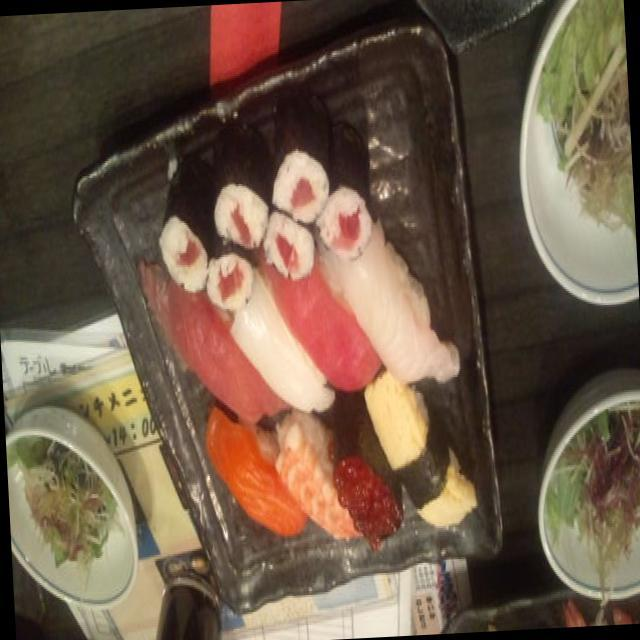Sushi: (130, 111, 476, 552)
